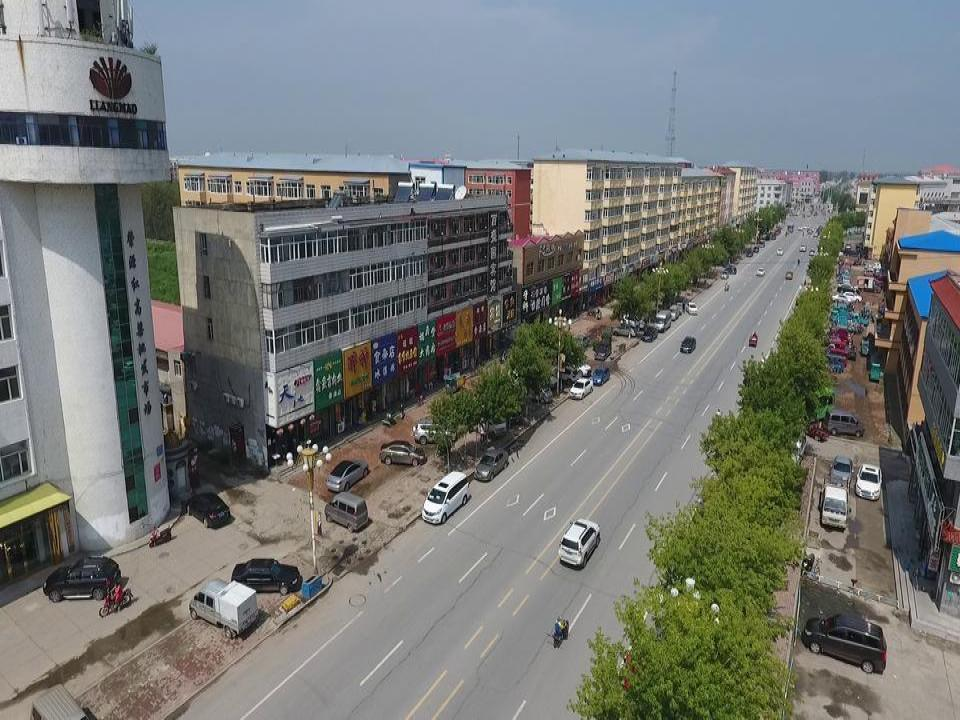bus: (788, 386, 834, 422), (787, 223, 794, 232)
car: (802, 613, 886, 675), (43, 554, 121, 602), (231, 557, 299, 595), (558, 517, 600, 567), (187, 492, 230, 528), (326, 459, 369, 493), (412, 417, 457, 446), (379, 440, 427, 467), (473, 448, 508, 481), (855, 464, 882, 501), (829, 456, 853, 492), (482, 400, 519, 423), (521, 379, 552, 404), (525, 367, 558, 389), (547, 364, 578, 385), (562, 357, 592, 377), (569, 377, 592, 399), (619, 313, 644, 332), (612, 324, 638, 339), (591, 366, 610, 386), (570, 334, 590, 350), (680, 336, 696, 353), (837, 284, 858, 296), (841, 292, 862, 303), (642, 327, 658, 341), (831, 293, 851, 304), (838, 281, 858, 291), (685, 301, 698, 315), (866, 262, 881, 270), (724, 264, 736, 273), (861, 268, 874, 276), (720, 269, 729, 279), (785, 269, 793, 279), (757, 267, 765, 276), (799, 243, 807, 252), (776, 248, 784, 255), (808, 248, 815, 256), (746, 250, 753, 258), (753, 245, 759, 252), (759, 241, 765, 247), (771, 233, 776, 240), (774, 229, 779, 236), (803, 224, 810, 229), (798, 224, 802, 231), (810, 225, 814, 232), (777, 228, 781, 233), (808, 230, 812, 234)
truck: (189, 578, 257, 638), (818, 475, 851, 528), (801, 418, 829, 442), (857, 276, 881, 293), (869, 362, 881, 382), (860, 339, 870, 357), (848, 345, 857, 360)
van: (421, 471, 469, 524), (30, 682, 90, 720), (325, 491, 368, 533), (468, 406, 507, 438), (823, 410, 865, 438), (781, 428, 806, 465), (593, 337, 611, 360), (654, 309, 671, 332), (668, 304, 679, 320)
